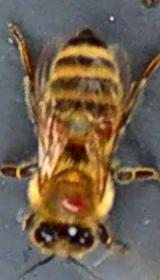varroa_mite: (85, 113, 120, 144), (39, 118, 70, 148), (62, 186, 89, 215)
